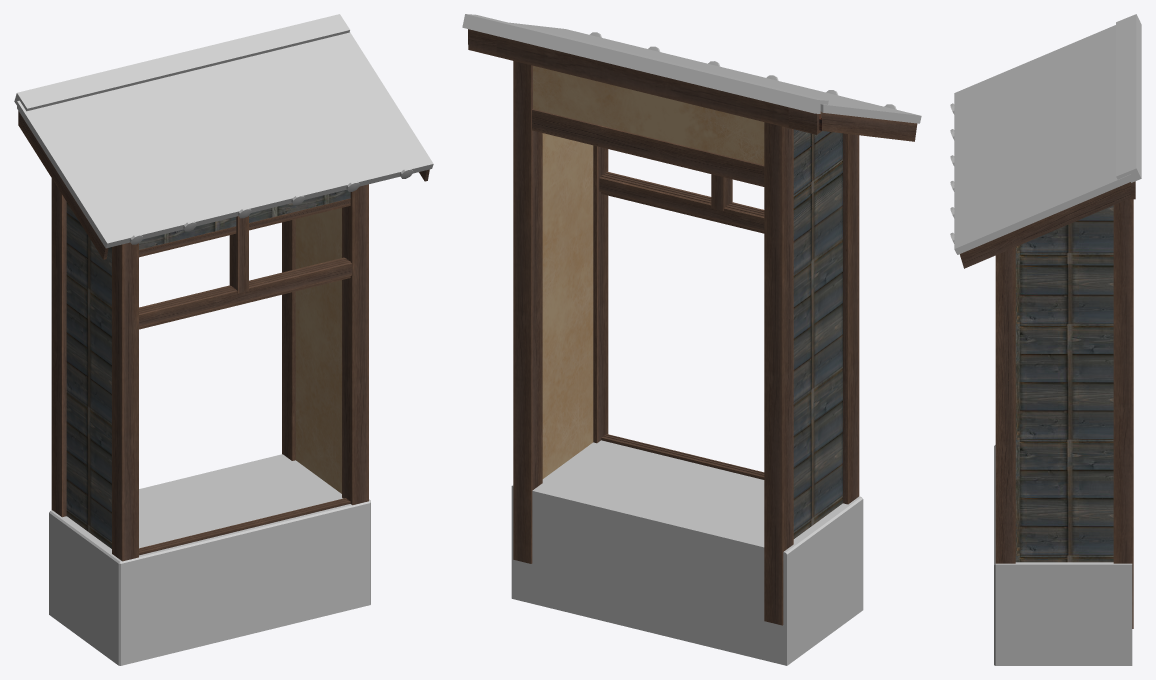
Rendered from kawara_entrance_1td.fbx.
The picture shows the model from 3 angles, left to right: view 1: azimuth 30°, elevation 25°; view 2: azimuth 150°, elevation 25°; view 3: azimuth 270°, elevation 25°; orthographic projection. The views are drawn at different scales.
Parts seen in each view (by area): view 1: kawara_entrance_1td; view 2: kawara_entrance_1td; view 3: kawara_entrance_1td.
Boxes of the visible parts, left/top/right/bottom form: kawara_entrance_1td: left=14, top=14, right=433, bottom=665; kawara_entrance_1td: left=462, top=14, right=921, bottom=665; kawara_entrance_1td: left=950, top=14, right=1141, bottom=665.
Size of the model in its own units: 335 by 517 by 173.
